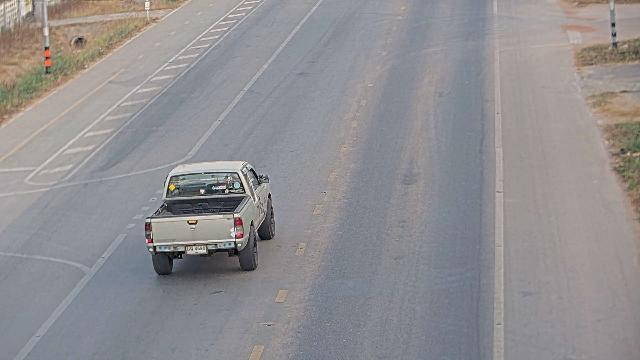pickup-truck: (144, 159, 276, 275)
